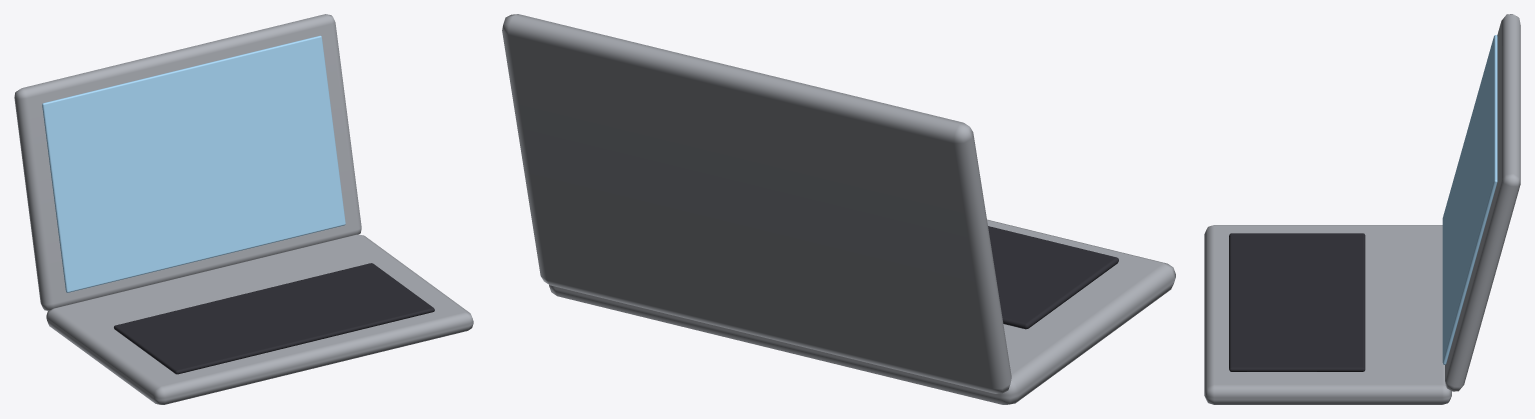
The model's file is furn_laptop.glb.
3 renders of one model, left to right at view 1: azimuth 30°, elevation 25°; view 2: azimuth 150°, elevation 25°; view 3: azimuth 270°, elevation 25°, orthographic. The views are drawn at different scales.
Visible parts, largest first — view 1: furn_laptop_main, furn_laptop_glow; view 2: furn_laptop_main; view 3: furn_laptop_main, furn_laptop_glow.
Boxes of the visible parts, x1=… form: furn_laptop_main: x1=14, y1=14, x2=473, y2=404; furn_laptop_glow: x1=42, y1=35, x2=345, y2=292; furn_laptop_main: x1=502, y1=14, x2=1175, y2=404; furn_laptop_main: x1=1204, y1=14, x2=1520, y2=404; furn_laptop_glow: x1=1442, y1=35, x2=1497, y2=364.
Size of the model in its own units: 0.32 by 0.2058 by 0.2553.
